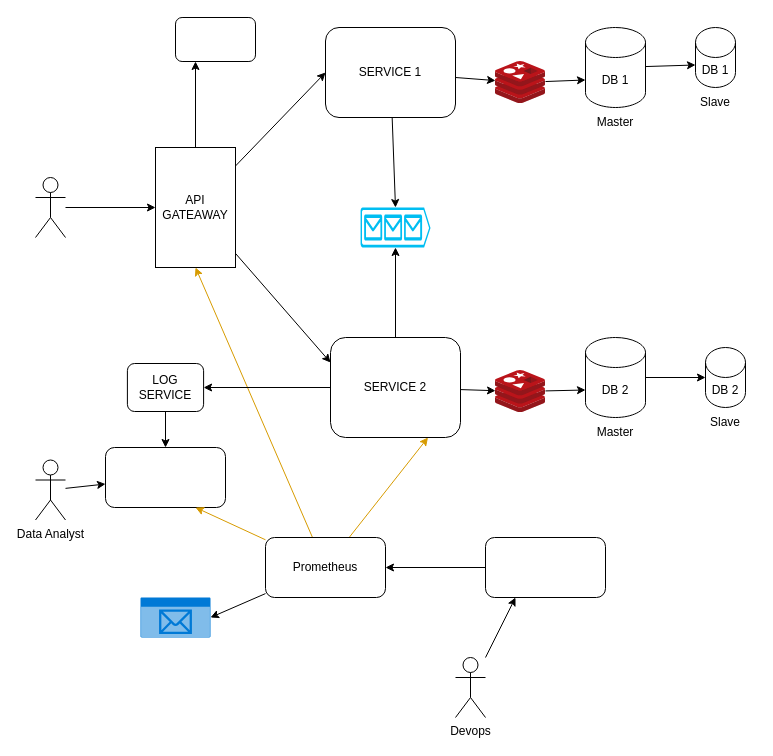
The diagram is 773 pixels wide and 756 high, and some of its shapes have lost their labels. Each missing label, with the centre of its shape:
"Client" goes at [50,207].
"ELK" goes at [165,477].
"Grafana" goes at [545,567].
"Mail" goes at [175,617].
"SSO" goes at [215,39].
